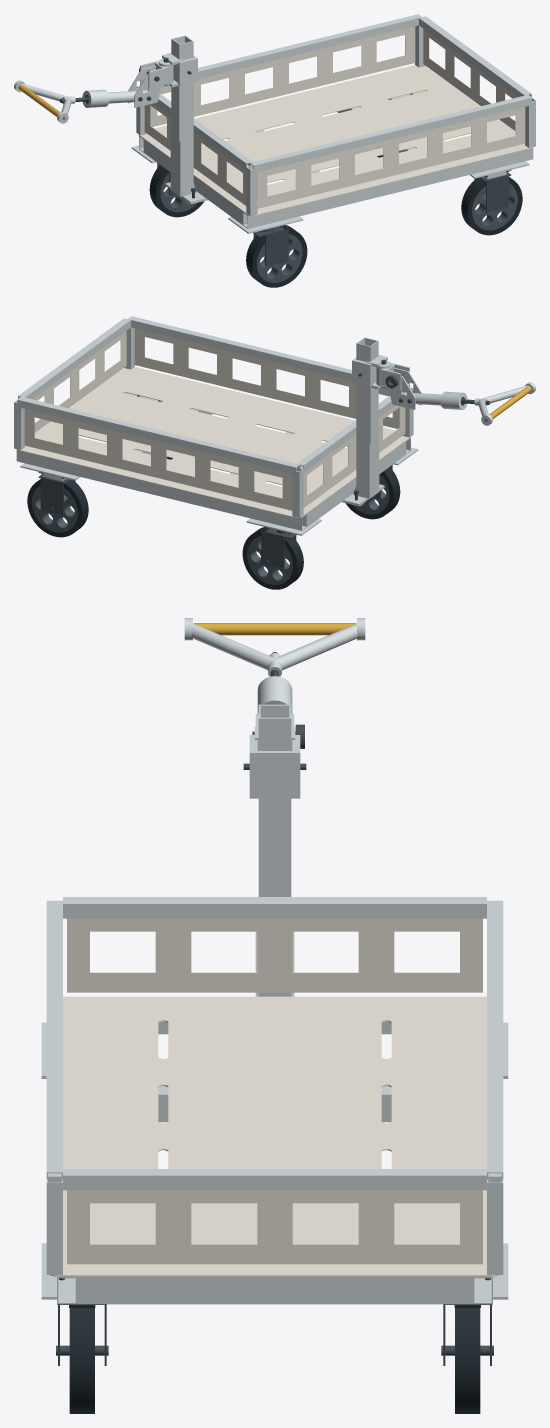
Rendered from goose_low_profile_stock_cart_03.glb.
3 views of the same model, one above another, from view 1: azimuth 30°, elevation 25°; view 2: azimuth 150°, elevation 25°; view 3: azimuth 270°, elevation 25° (orthographic). The views are drawn at different scales.
Parts seen in each view (by area): view 1: goose_low_profile_stock_cart_03 (×5); view 2: goose_low_profile_stock_cart_03 (×5); view 3: goose_low_profile_stock_cart_03 (×5).
Part boxes in pixels (x1,y1,x2,y2): goose_low_profile_stock_cart_03 (×5): (14, 14, 535, 287); goose_low_profile_stock_cart_03 (×5): (14, 316, 535, 589); goose_low_profile_stock_cart_03 (×5): (41, 618, 508, 1413).
Bounding box in the file's own units: 1.01 × 0.48 × 0.46.
